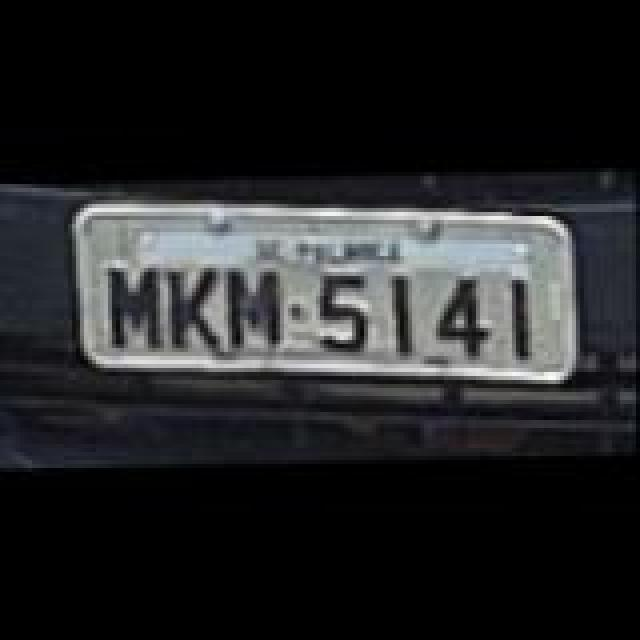1: (512, 274, 540, 358), (390, 270, 414, 354)
4: (436, 274, 496, 358)
5: (318, 268, 374, 352)
K: (170, 262, 226, 346)
M: (110, 266, 166, 350), (230, 268, 286, 348)
